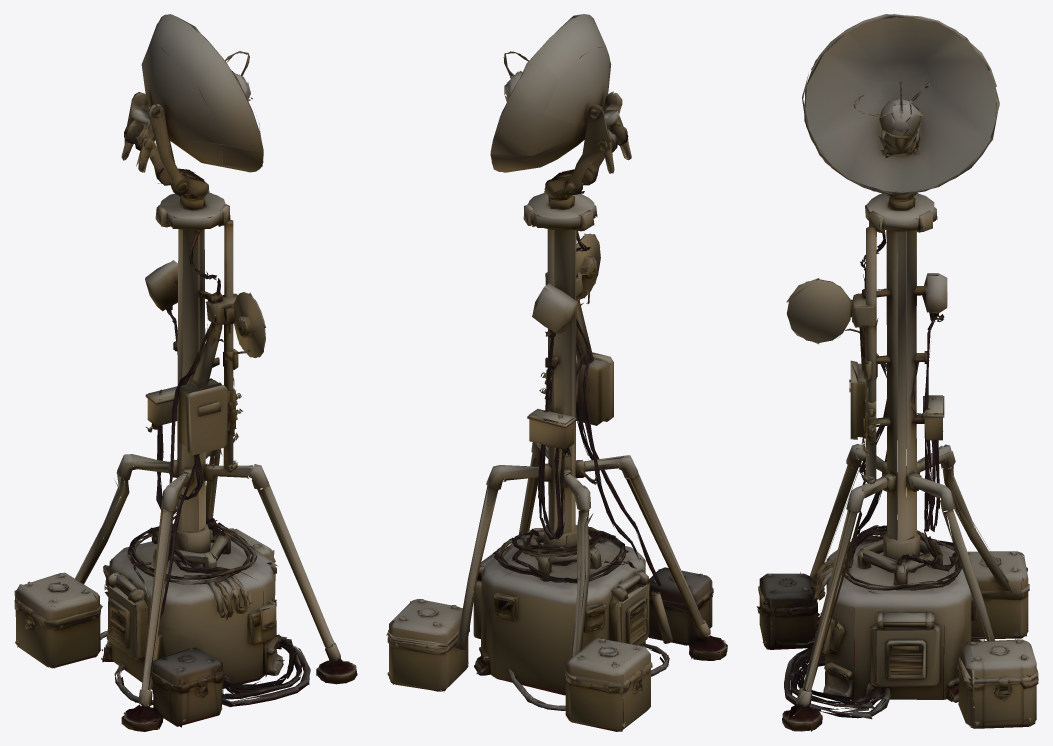
File: ch5_meridian_comms_mast_LOD1.glb
3 renders of one model, left to right at view 1: azimuth 30°, elevation 25°; view 2: azimuth 150°, elevation 25°; view 3: azimuth 270°, elevation 25°, orthographic. The views are drawn at different scales.
Parts seen in each view (by area): view 1: tripo_node_35f3261e-9936-461f-8cbf-431a47ee86c6; view 2: tripo_node_35f3261e-9936-461f-8cbf-431a47ee86c6; view 3: tripo_node_35f3261e-9936-461f-8cbf-431a47ee86c6.
Part boxes in pixels (x1,y1,x2,y2): tripo_node_35f3261e-9936-461f-8cbf-431a47ee86c6: (14,14,357,731); tripo_node_35f3261e-9936-461f-8cbf-431a47ee86c6: (386,14,727,731); tripo_node_35f3261e-9936-461f-8cbf-431a47ee86c6: (756,14,1038,731).
Size of the model in its own units: 0.3928 by 1 by 0.3881.
Materials: 1 (1 with a texture image).
